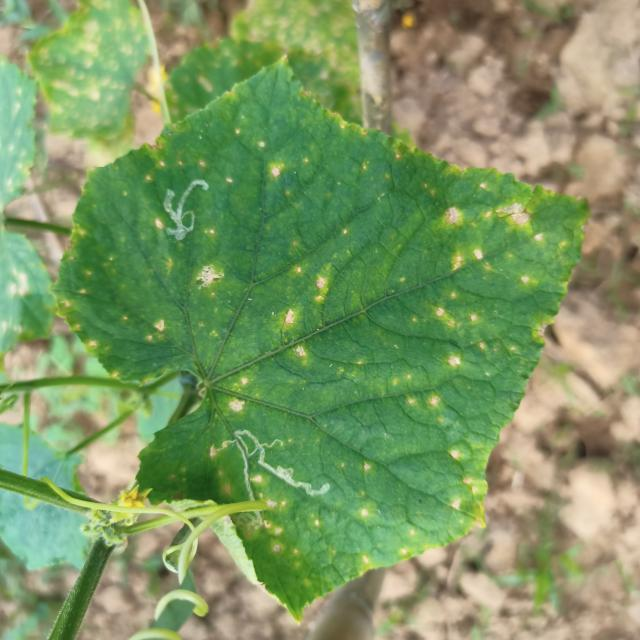disease_cucumber: (390, 164, 571, 507), (202, 450, 467, 593), (190, 255, 357, 414), (55, 211, 184, 378), (103, 116, 296, 208)
